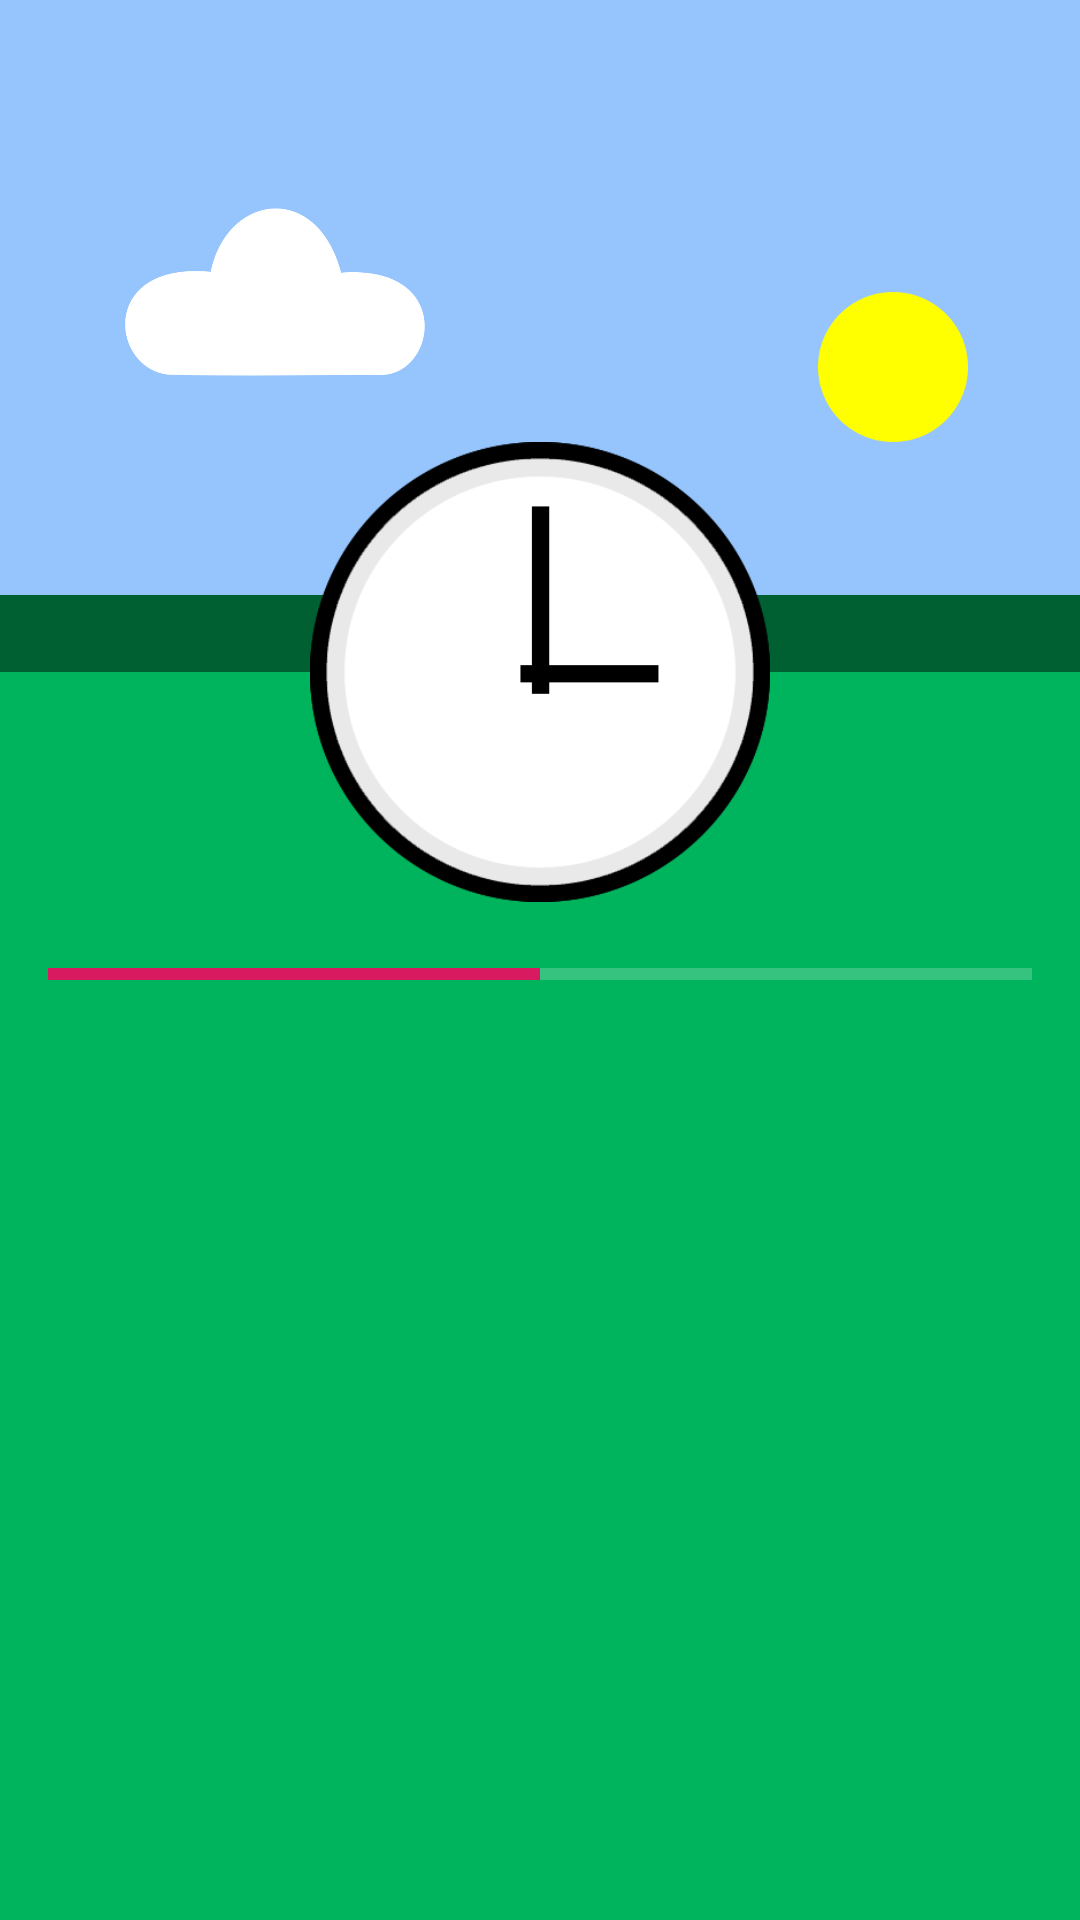

Icon click points for this 1080px x 1920px phone screenshot, format (x,y):
cloud: (275,292)
sun: (893,367)
